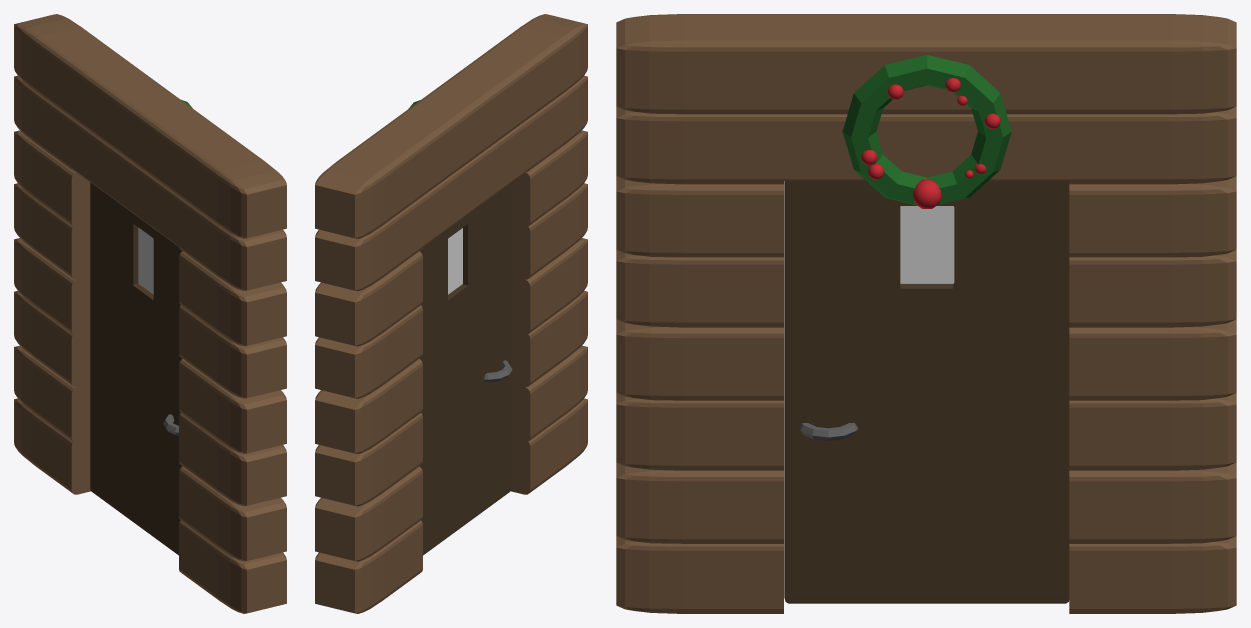
The model's file is Door.fbx.
3 renders of one model, left to right at view 1: azimuth 30°, elevation 25°; view 2: azimuth 150°, elevation 25°; view 3: azimuth 270°, elevation 25°, orthographic. The views are drawn at different scales.
Visible parts, largest first — view 1: Cube.001, Cube.002, Cube.003; view 2: Cube.001, Cube.002, Cube.003; view 3: Cube.001, Cube.002, Torus.001, Cube.003.
Boxes of the visible parts, x1,y1,x2,y2 form: Cube.001: (14,14,286,613); Cube.002: (90,182,182,555); Cube.003: (138,227,153,294); Cube.001: (315,14,587,613); Cube.002: (419,183,511,555); Cube.003: (448,228,462,294); Cube.001: (616,14,1236,613); Cube.002: (784,181,1069,603); Torus.001: (842,55,1011,205); Cube.003: (900,206,954,283).
Bounding box in the file's own units: 34.68 × 204 × 200.
